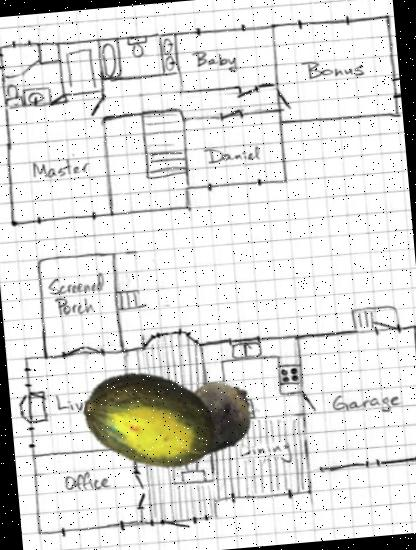Beetroot: (143, 364, 268, 489)
Melon: (78, 348, 222, 492)
